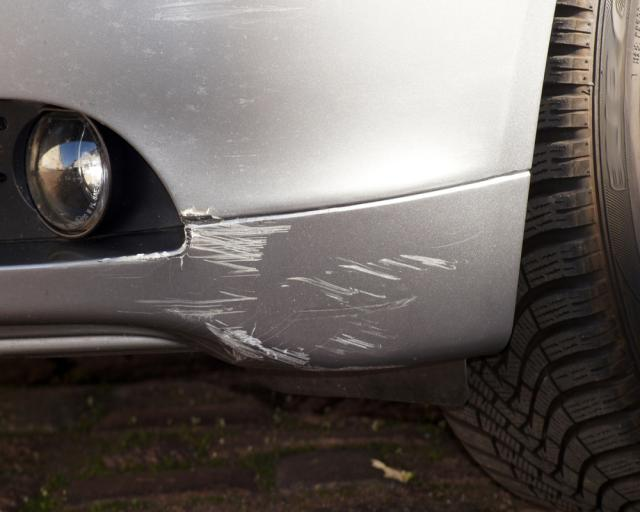scratch: (131, 204, 460, 372)
